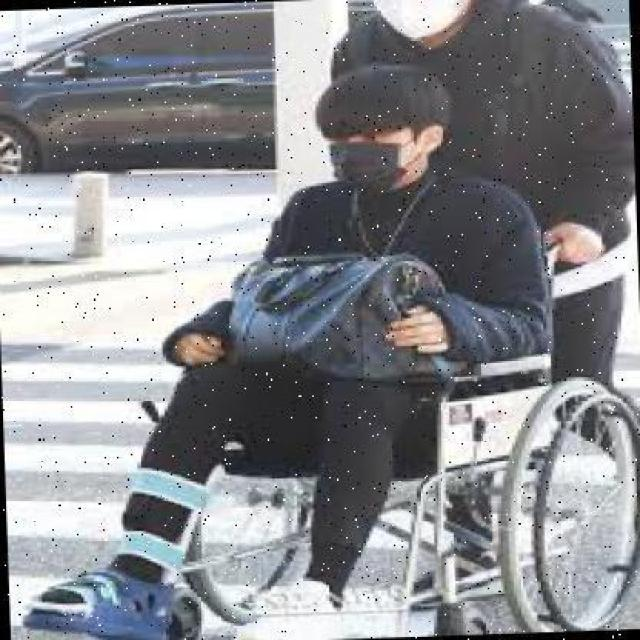Person: (0, 50, 638, 638), (323, 0, 639, 477)
